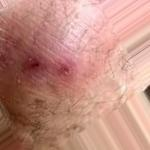Ants: (55, 57, 76, 92), (22, 55, 43, 73)
